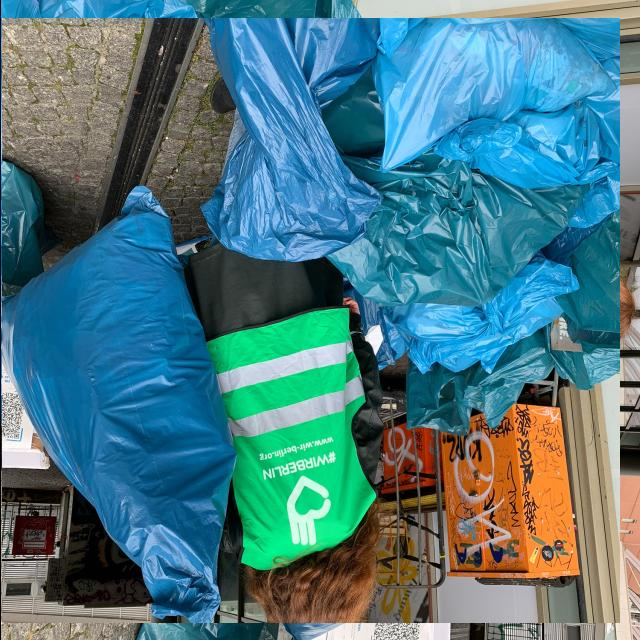garbage: (0, 11, 613, 629)
